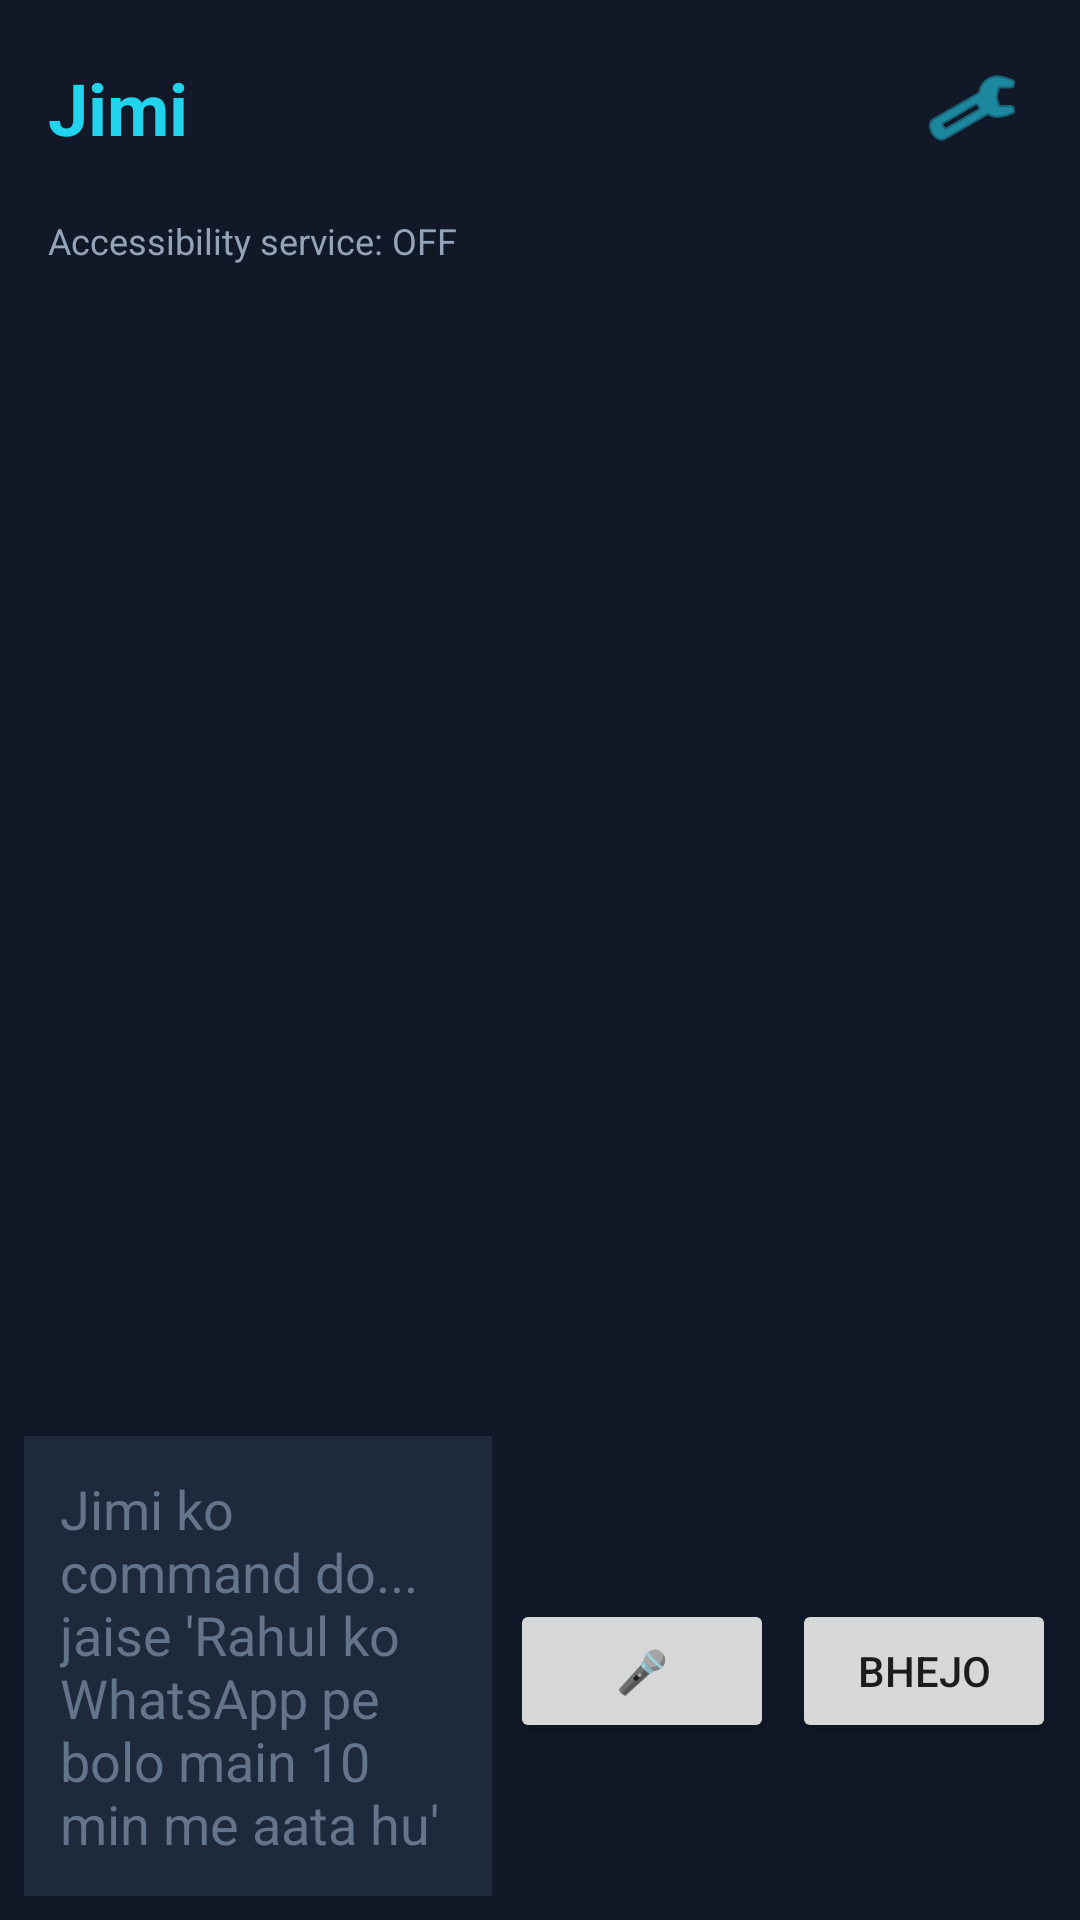

Icons on this 1080px×1920px Android screen, each with its box as bbox(x1, y1, x2, y2):
Settings: bbox(929, 75, 1015, 141)
